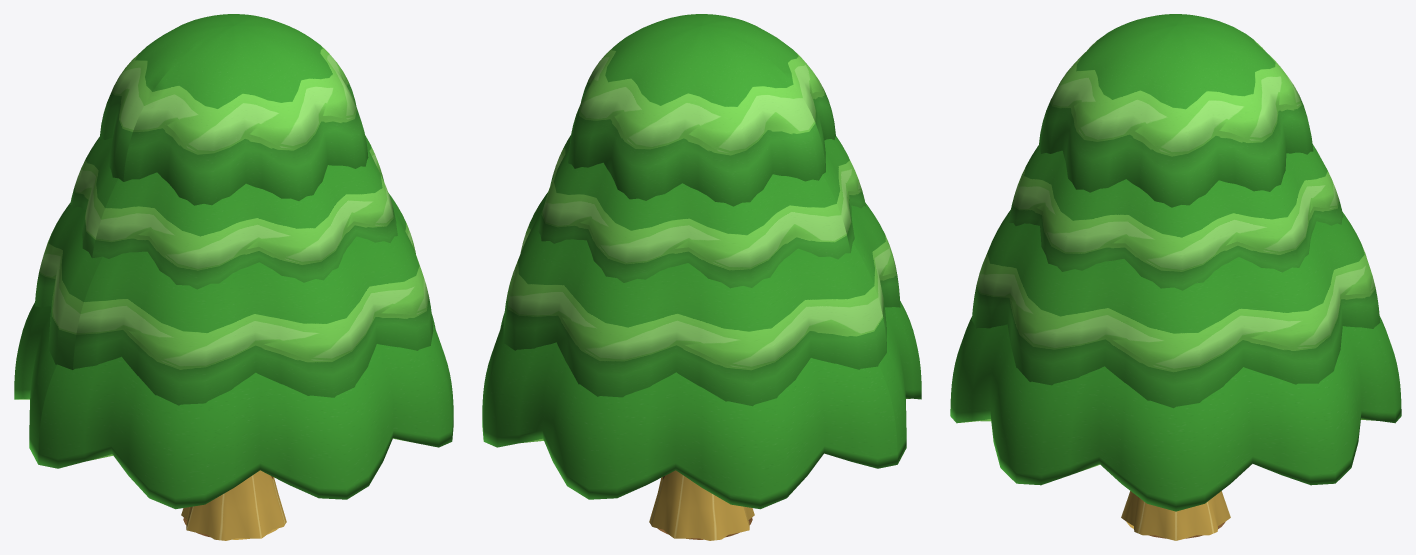
File: cartoon_tree.glb
3 renders of one model, left to right at view 1: azimuth 30°, elevation 25°; view 2: azimuth 150°, elevation 25°; view 3: azimuth 270°, elevation 25°, orthographic.
Parts seen in each view (by area): view 1: mario_cartoon_tree; view 2: mario_cartoon_tree; view 3: mario_cartoon_tree.
Part boxes in pixels (x1=…): mario_cartoon_tree: x1=14, y1=14, x2=453, y2=540; mario_cartoon_tree: x1=482, y1=14, x2=921, y2=540; mario_cartoon_tree: x1=950, y1=14, x2=1401, y2=540.
Size of the model in its own units: 3.12 by 3.75 by 3.12.
Materials: 2 (2 with a texture image).
